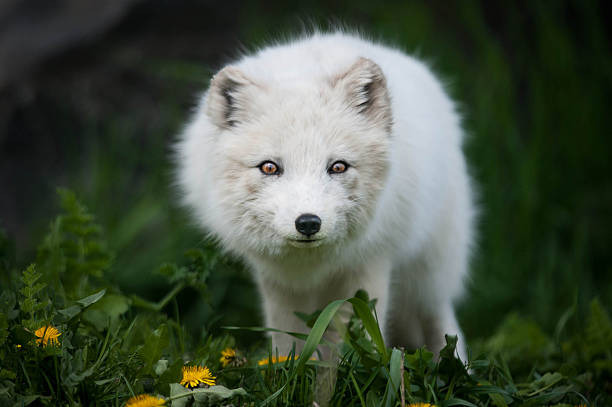arcticfox: (215, 91, 396, 267)
